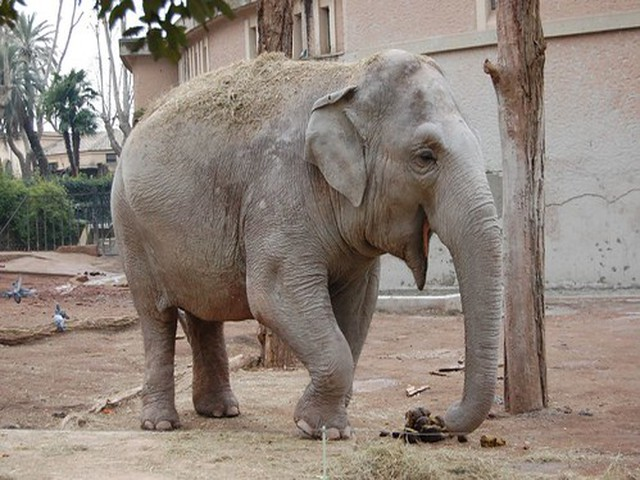Elephant: (105, 45, 504, 439)
